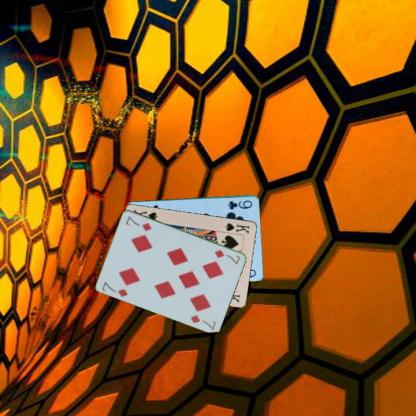7d: (212, 247, 242, 266), (99, 279, 129, 298)
9c: (225, 198, 254, 210)
Ks: (222, 220, 251, 235)
